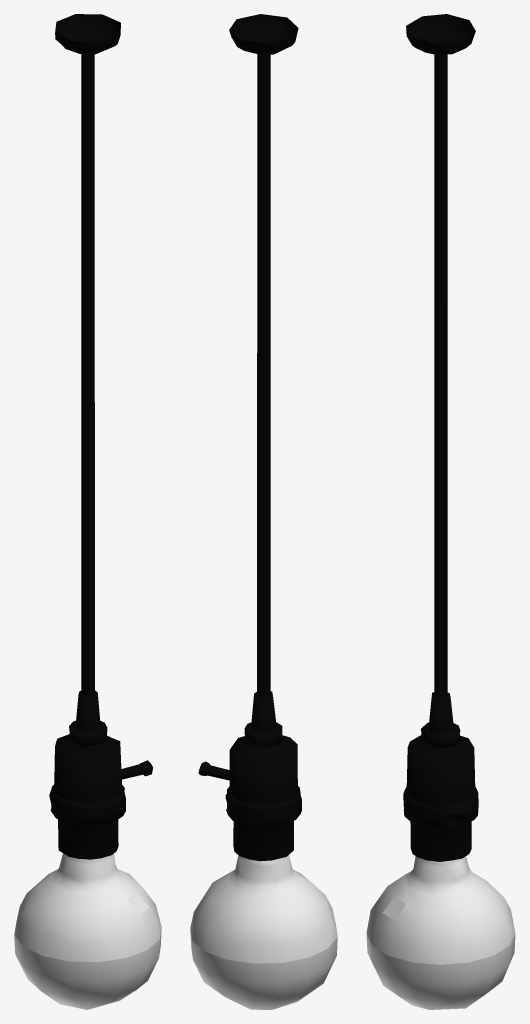
The model's file is pendantlight3_reference.002.fbx.
3 views of the same model, side by side, from view 1: azimuth 30°, elevation 25°; view 2: azimuth 150°, elevation 25°; view 3: azimuth 270°, elevation 25° (orthographic).
Parts seen in each view (by area): view 1: pendantlight3_reference.002; view 2: pendantlight3_reference.002; view 3: pendantlight3_reference.002.
Part boxes in pixels (x1,y1,x2,y2): pendantlight3_reference.002: [14, 14, 161, 1009]; pendantlight3_reference.002: [190, 14, 337, 1009]; pendantlight3_reference.002: [366, 14, 515, 1009].
Bounding box in the file's own units: 8.42 × 60.98 × 8.42.
